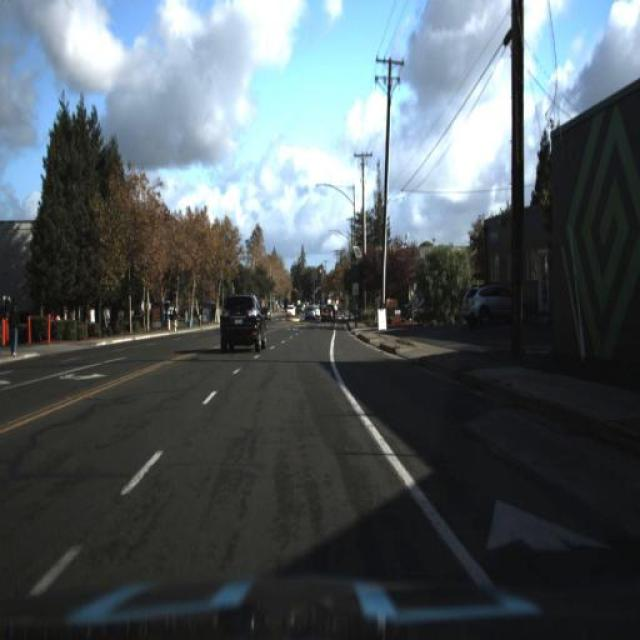car: (454, 269, 535, 339), (215, 288, 267, 361), (318, 300, 337, 326), (281, 301, 299, 320)
